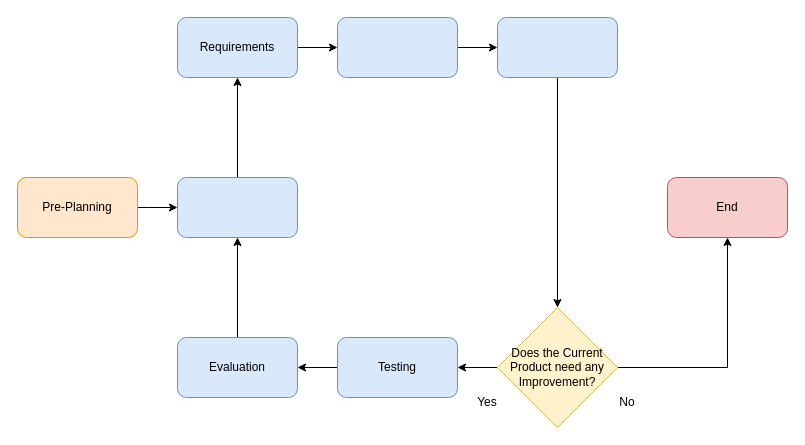
Image size: 805x445. Some labels were removed from this diagram. Each missing label, with the box of its shape:
Analysis and Design: (336, 16, 458, 78)
Implementation: (496, 16, 618, 78)
Planning: (176, 176, 298, 238)
